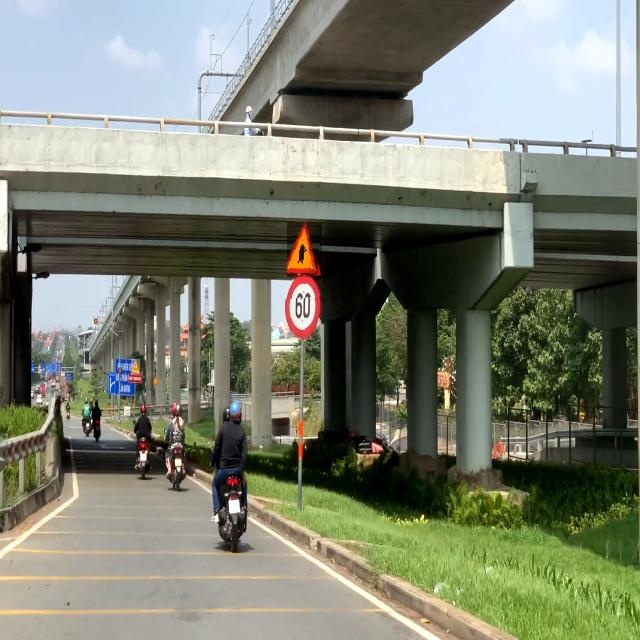bien_nguy_hiem: (285, 276, 322, 340), (287, 222, 322, 277), (131, 359, 140, 374)
